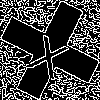X: (25, 25, 76, 81)
